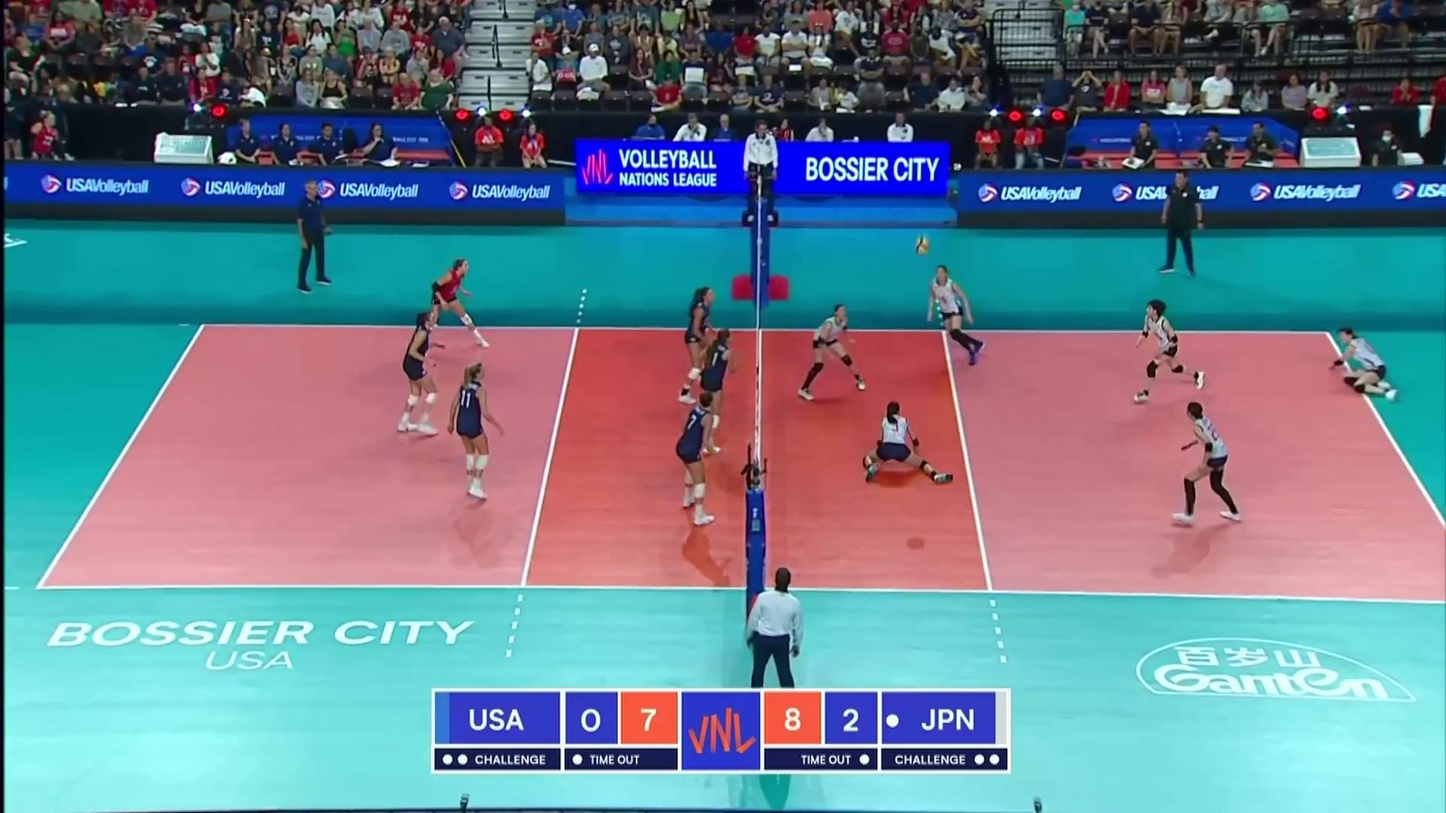player: (1173, 402, 1243, 524), (450, 364, 506, 503), (865, 402, 956, 487), (1135, 299, 1209, 399), (797, 304, 868, 398), (398, 311, 446, 439), (674, 395, 722, 522), (927, 264, 985, 367), (424, 260, 490, 349), (1330, 328, 1401, 401), (692, 331, 731, 454), (679, 286, 717, 401)
refree: (745, 568, 803, 688), (745, 120, 777, 223)
